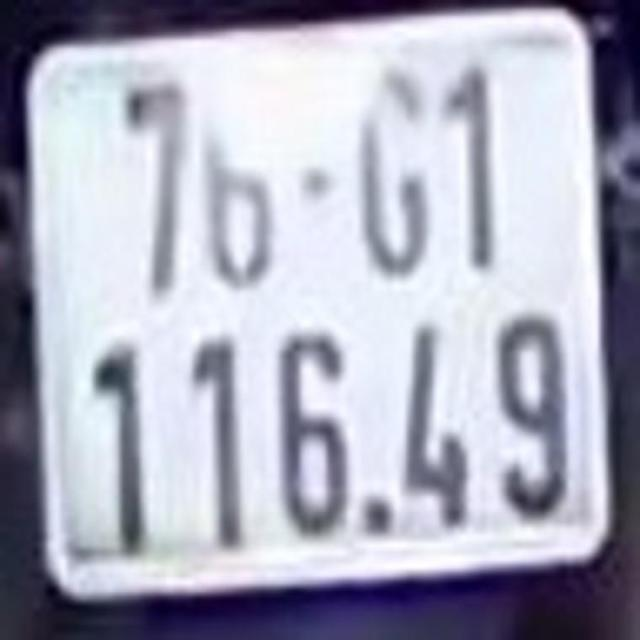1: (441, 62, 509, 274), (90, 342, 156, 553), (186, 329, 249, 550)
4: (397, 315, 475, 532)
6: (275, 324, 354, 538), (202, 76, 276, 292)
7: (119, 77, 191, 296)
9: (491, 306, 575, 520)
G: (353, 59, 433, 278)
